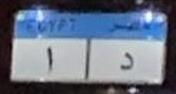1: (44, 43, 57, 71)
daal: (118, 49, 135, 74)
